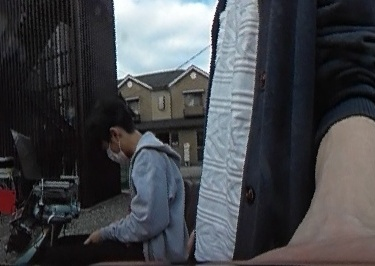person: (37, 95, 186, 266)
